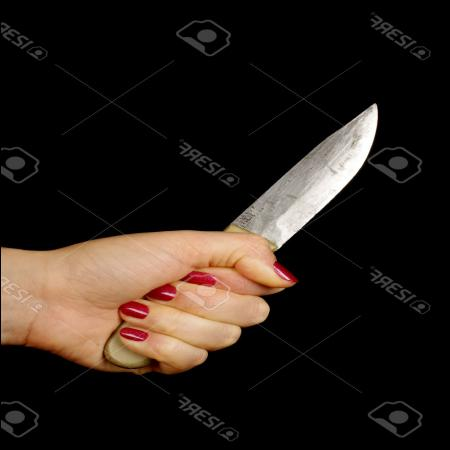long weapon: (102, 97, 386, 369)
